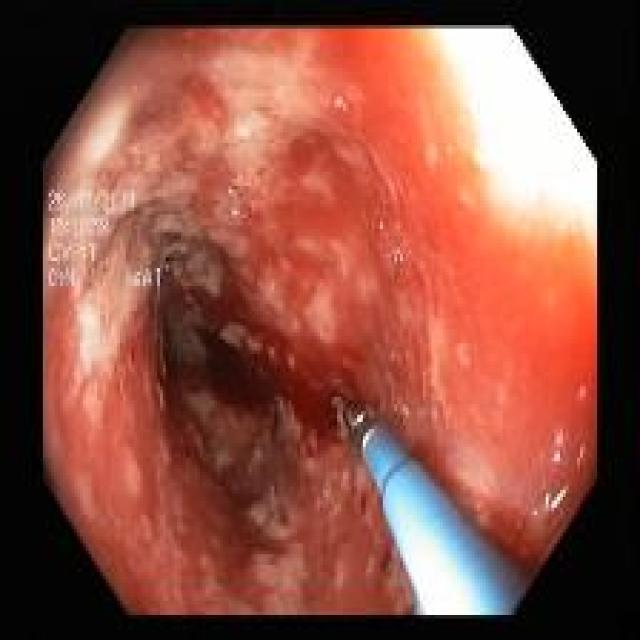ulcerative-colitis: (44, 28, 596, 614)
